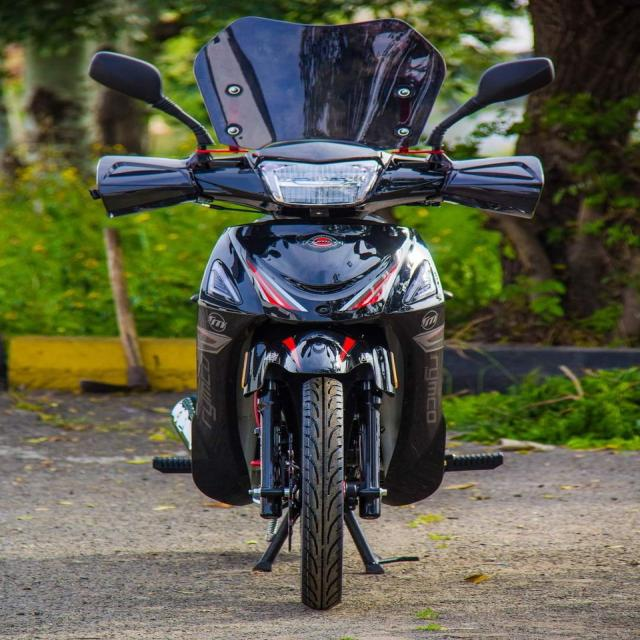Motorcycle: (92, 16, 543, 611)
